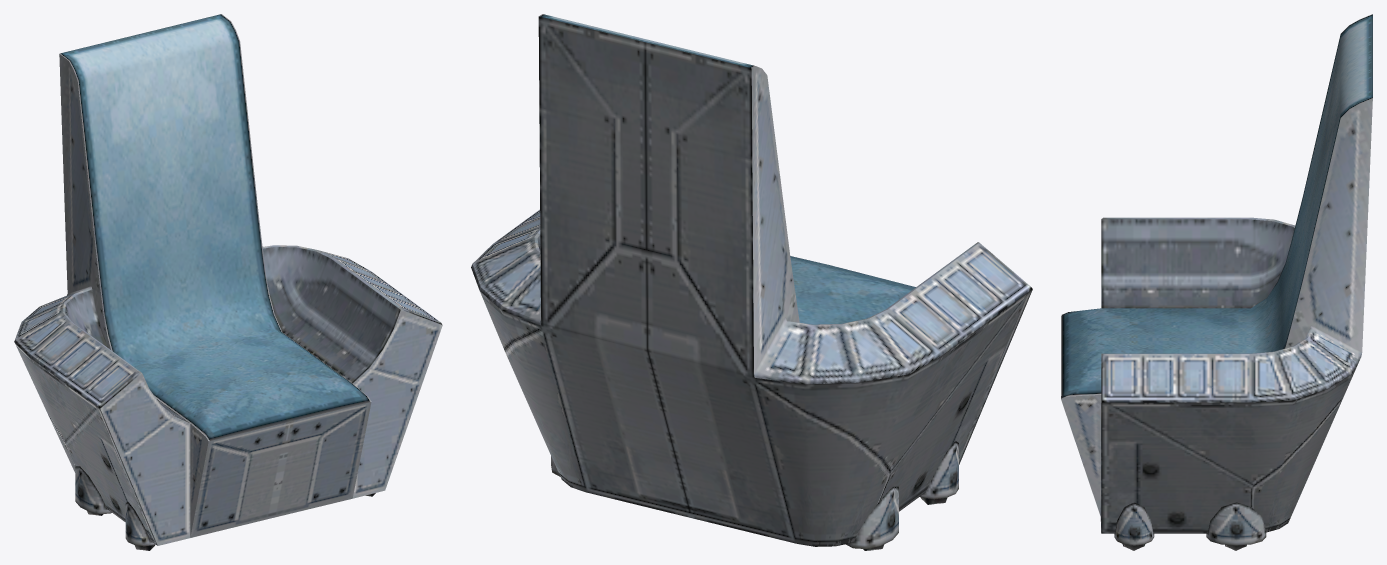
File: frn_all_space_metal_wheeled_s01_l0.fbx
The picture shows the model from 3 angles, left to right: view 1: azimuth 30°, elevation 25°; view 2: azimuth 150°, elevation 25°; view 3: azimuth 270°, elevation 25°; orthographic projection. The views are drawn at different scales.
Parts seen in each view (by area): view 1: mesh_node; view 2: mesh_node; view 3: mesh_node.
Boxes of the visible parts, <box> form: mesh_node: <box>14,14,442,550</box>; mesh_node: <box>471,14,1032,550</box>; mesh_node: <box>1061,14,1372,550</box>.
Bounding box in the file's own units: 1.05 × 1.2 × 0.7815.
